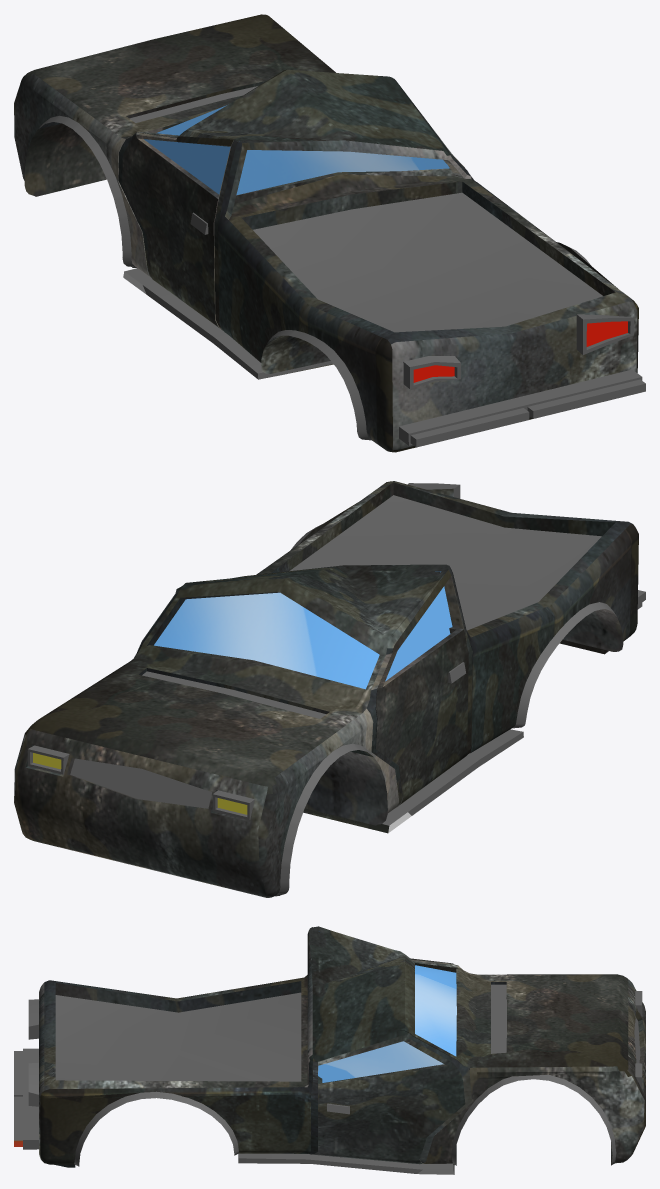
The model's file is crash2.fbx.
3 views of the same model, one above another, from view 1: azimuth 30°, elevation 25°; view 2: azimuth 150°, elevation 25°; view 3: azimuth 270°, elevation 25° (orthographic). The views are drawn at different scales.
Parts seen in each view (by area): view 1: Cube.001; view 2: Cube.001; view 3: Cube.001.
Part boxes in pixels (x1=…): Cube.001: x1=14, y1=14, x2=645, y2=452; Cube.001: x1=14, y1=481, x2=645, y2=897; Cube.001: x1=14, y1=926, x2=645, y2=1174.
Bounding box in the file's own units: 187 × 137 × 475.
3 materials, 3 textured.
